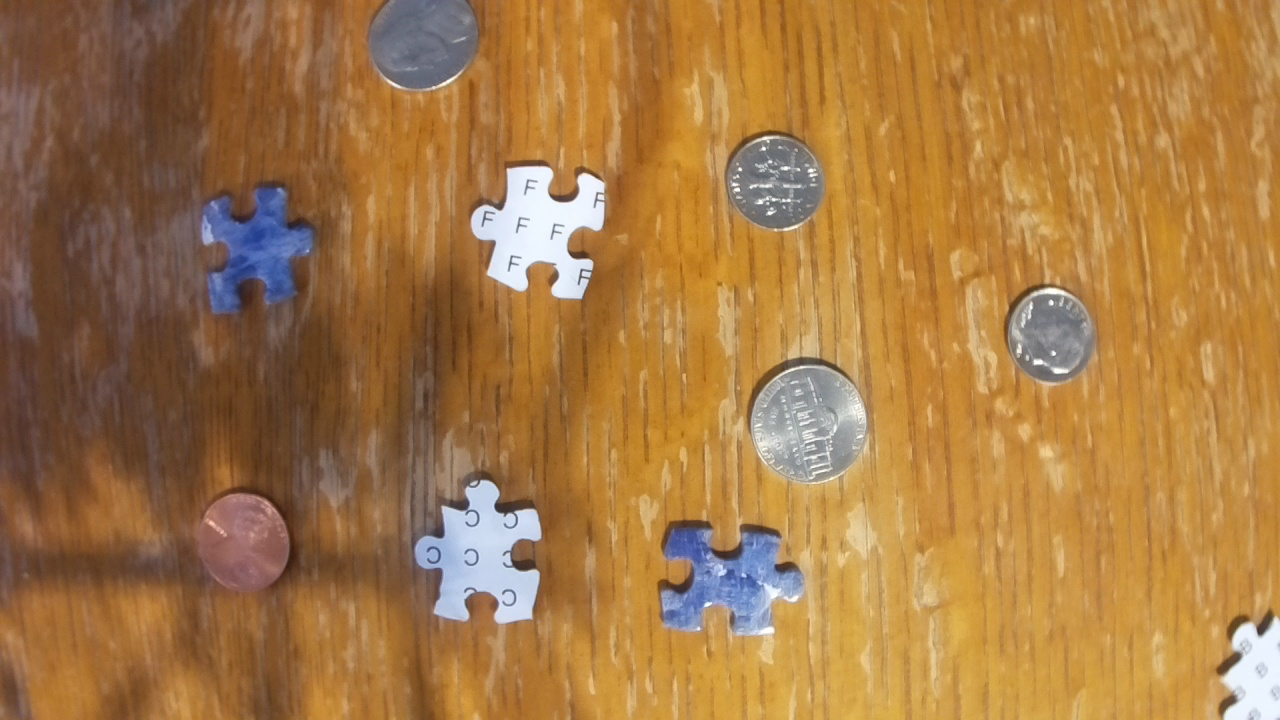dime: (724, 131, 825, 233), (1004, 286, 1097, 384)
nickel: (747, 362, 870, 486), (364, 1, 481, 95)
penny: (196, 490, 292, 592)
